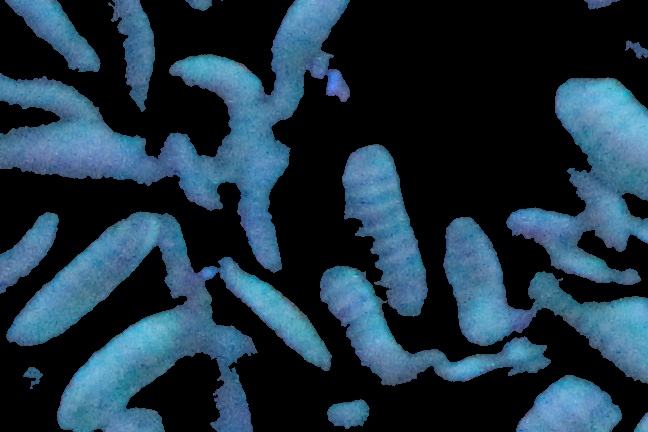larvae: (7, 212, 158, 349), (57, 308, 201, 432), (339, 144, 425, 314), (219, 258, 330, 373), (543, 73, 648, 194), (323, 263, 407, 384), (434, 213, 512, 340), (1, 123, 151, 182), (241, 144, 296, 272), (7, 1, 102, 74), (272, 1, 356, 69), (105, 1, 156, 110), (1, 71, 107, 123), (169, 52, 262, 104), (162, 134, 222, 213), (1, 214, 61, 292)
